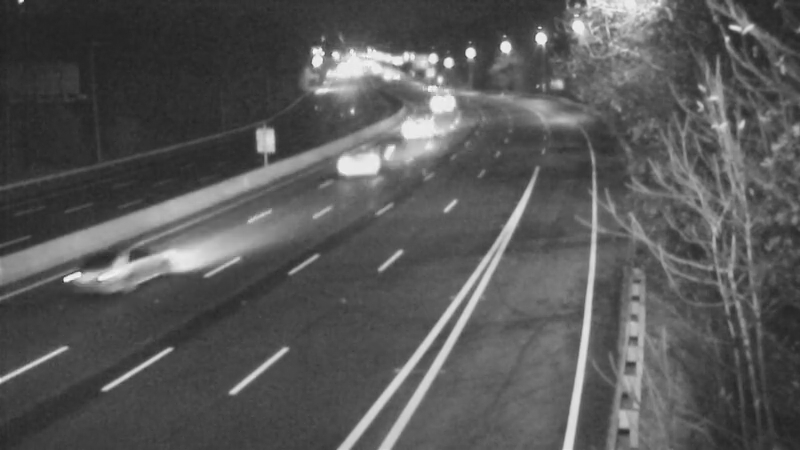vehicle: (326, 129, 406, 209), (57, 230, 137, 310), (411, 61, 461, 111), (417, 74, 467, 124), (397, 103, 447, 153)
